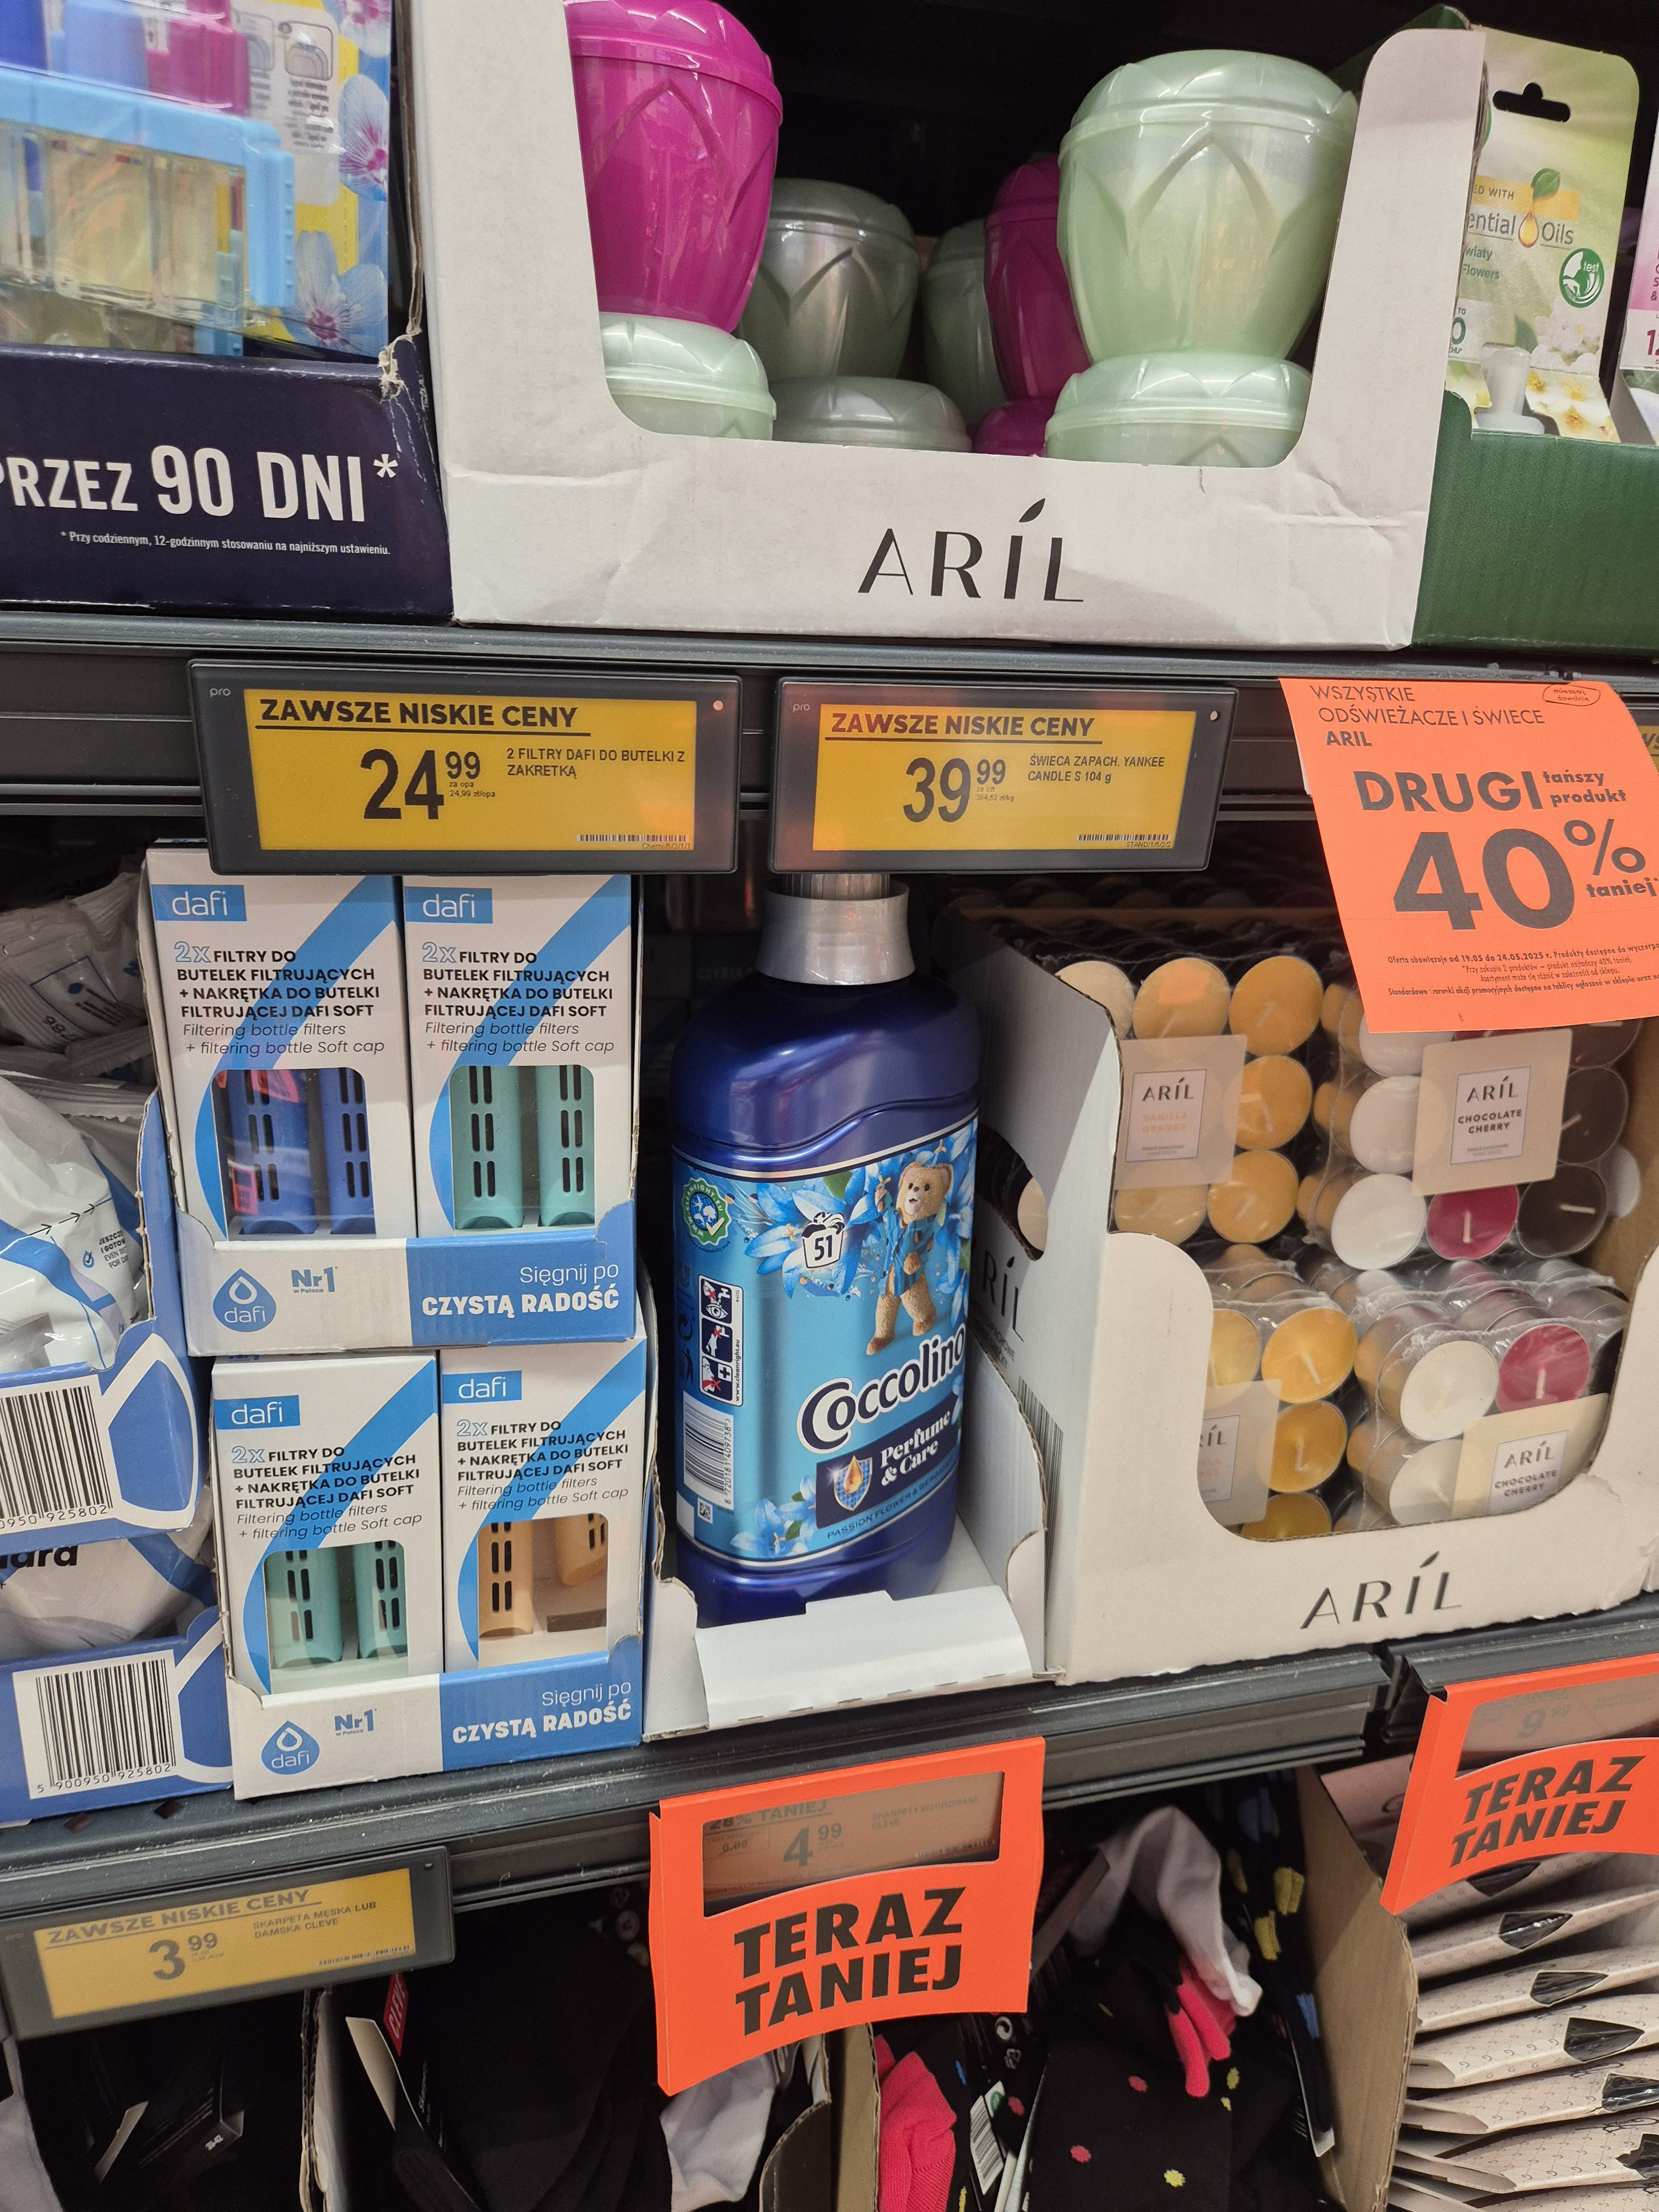cocolino: (681, 860, 997, 1595)
